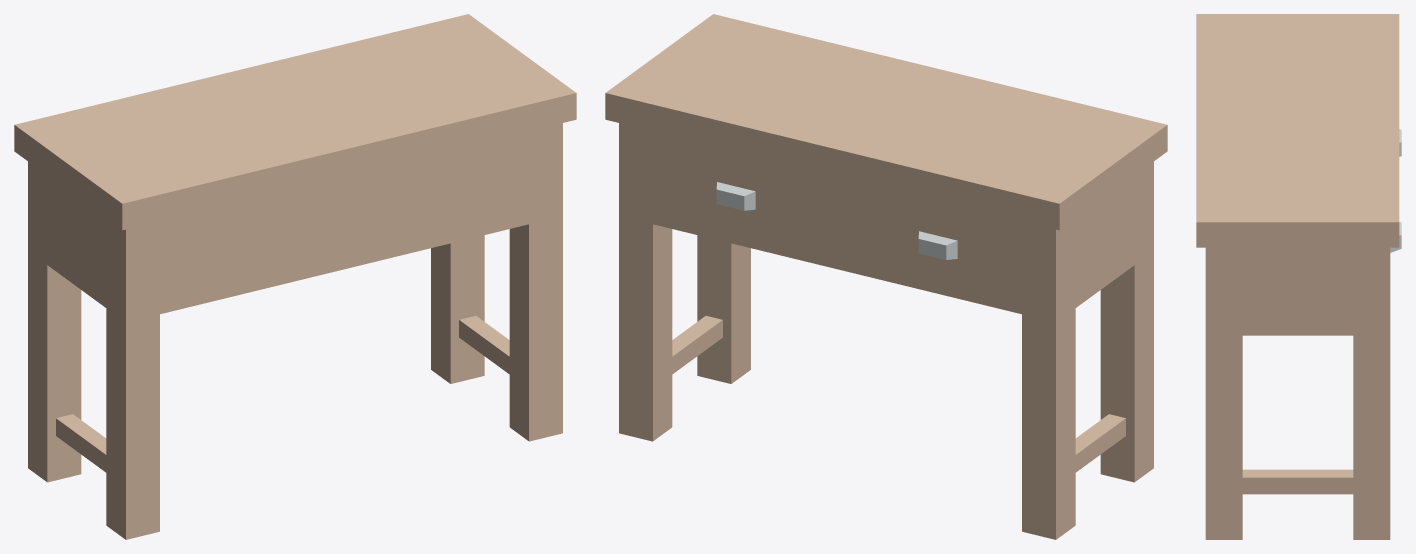
Rendered from side_table.glb.
The picture shows the model from 3 angles, left to right: view 1: azimuth 30°, elevation 25°; view 2: azimuth 150°, elevation 25°; view 3: azimuth 270°, elevation 25°; orthographic projection. The views are drawn at different scales.
Parts seen in each view (by area): view 1: sideTableDrawers(Clone); view 2: sideTableDrawers(Clone), drawerRight, drawerLeft; view 3: sideTableDrawers(Clone).
Boxes of the visible parts, x1,y1,x2,y2 form: sideTableDrawers(Clone): [14, 14, 576, 539]; sideTableDrawers(Clone): [605, 14, 1167, 539]; drawerRight: [854, 202, 1021, 287]; drawerLeft: [653, 153, 819, 238]; sideTableDrawers(Clone): [1196, 14, 1399, 539].
Bounding box in the file's own units: 1.12 × 0.8073 × 0.4668.
